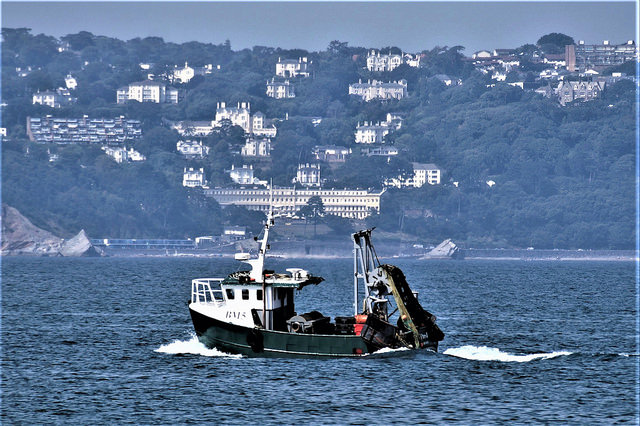fishing_boat: (186, 195, 442, 364)
